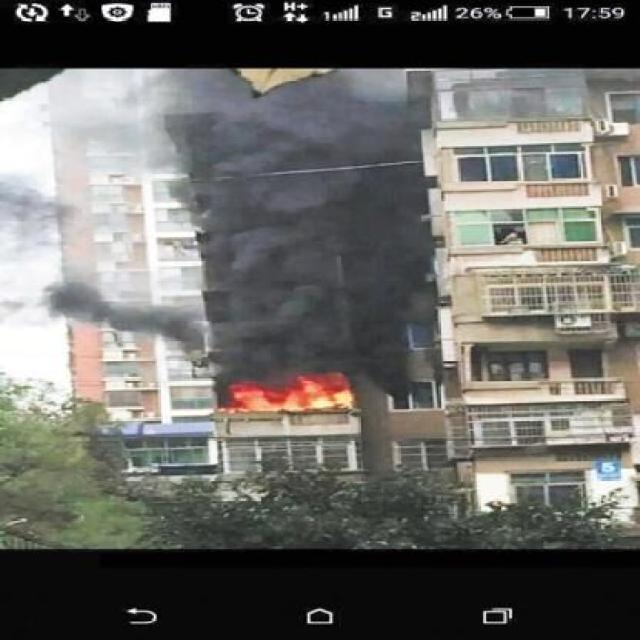Fire: (226, 368, 361, 415)
Smoke: (178, 76, 444, 377)
